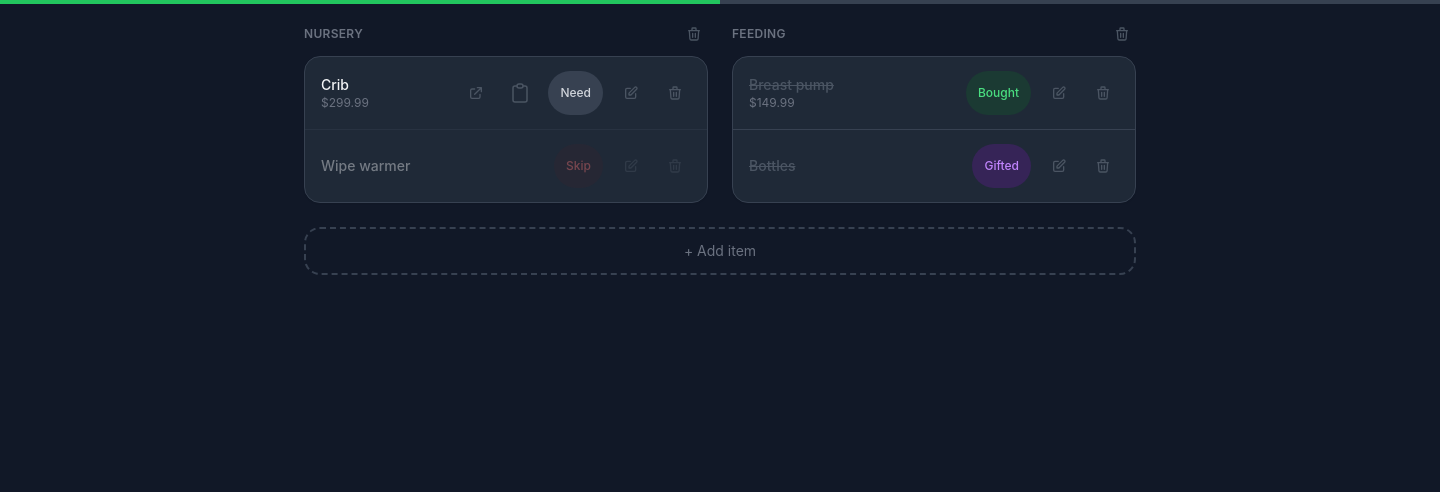
Test: PurchasesPage › edit button opens an inline form pre-populated with the purchase values
Expected: the text "Crib" is shown, x1=321 y1=76 x2=349 y2=93
Click the button named "Edit Crib" at (631, 93), box x1=615 y1=77 x2=647 y2=109
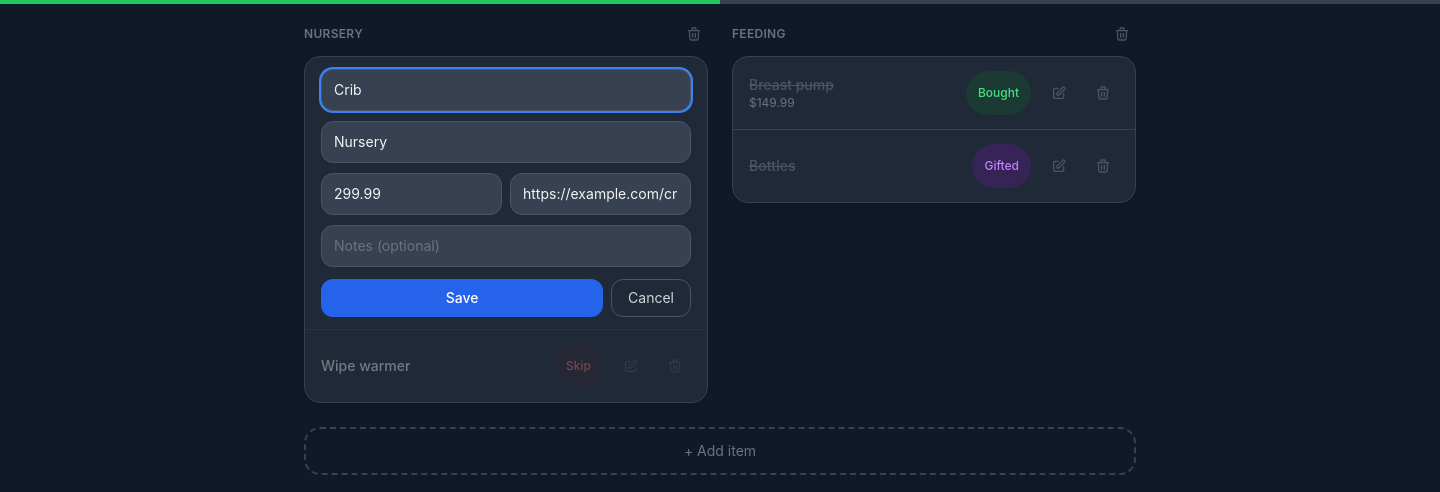
Expected: the 1st field showing "Crib" is shown, x1=321 y1=69 x2=691 y2=111
Expected: the 2nd field showing "Nursery" is shown, x1=321 y1=121 x2=691 y2=163
Expected: the number field showing "299.99" is shown, x1=321 y1=173 x2=502 y2=215
